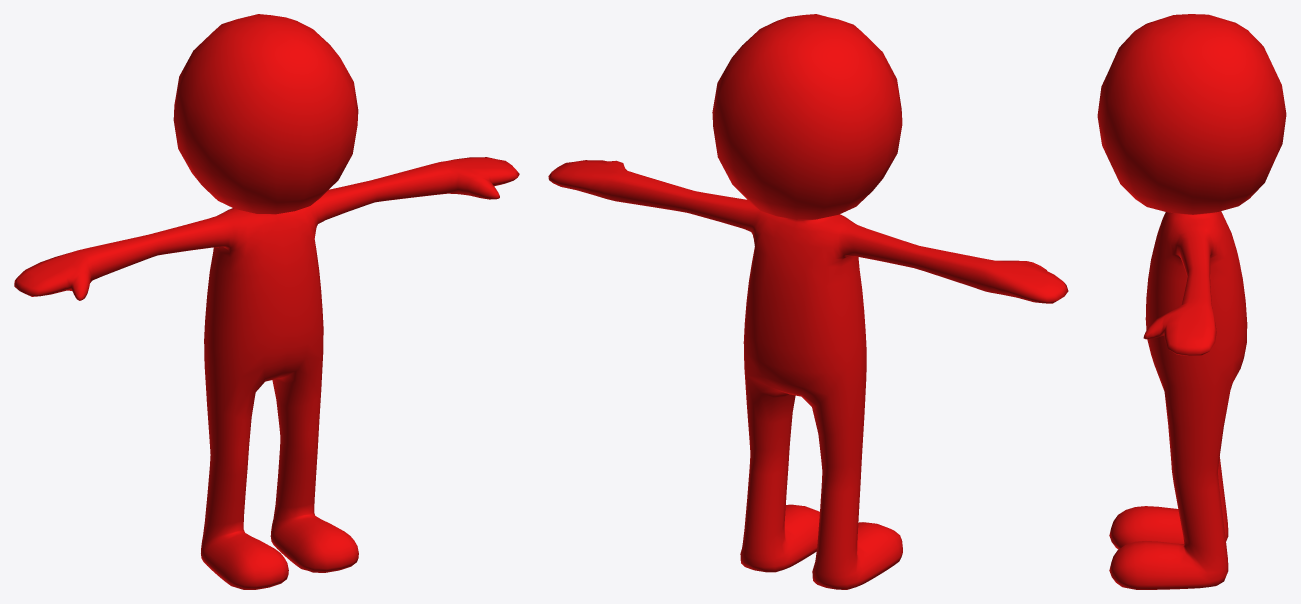
File: stickman.fbx
The picture shows the model from 3 angles, left to right: view 1: azimuth 30°, elevation 25°; view 2: azimuth 150°, elevation 25°; view 3: azimuth 270°, elevation 25°; orthographic projection. The views are drawn at different scales.
Parts seen in each view (by area): view 1: stickman; view 2: stickman; view 3: stickman.
Part boxes in pixels (x1,y1,x2,y2): stickman: (14, 14, 519, 589); stickman: (548, 14, 1068, 589); stickman: (1097, 14, 1286, 589).
Bounding box in the file's own units: 504 × 513 × 163.
Materials: 1 (1 with a texture image).
